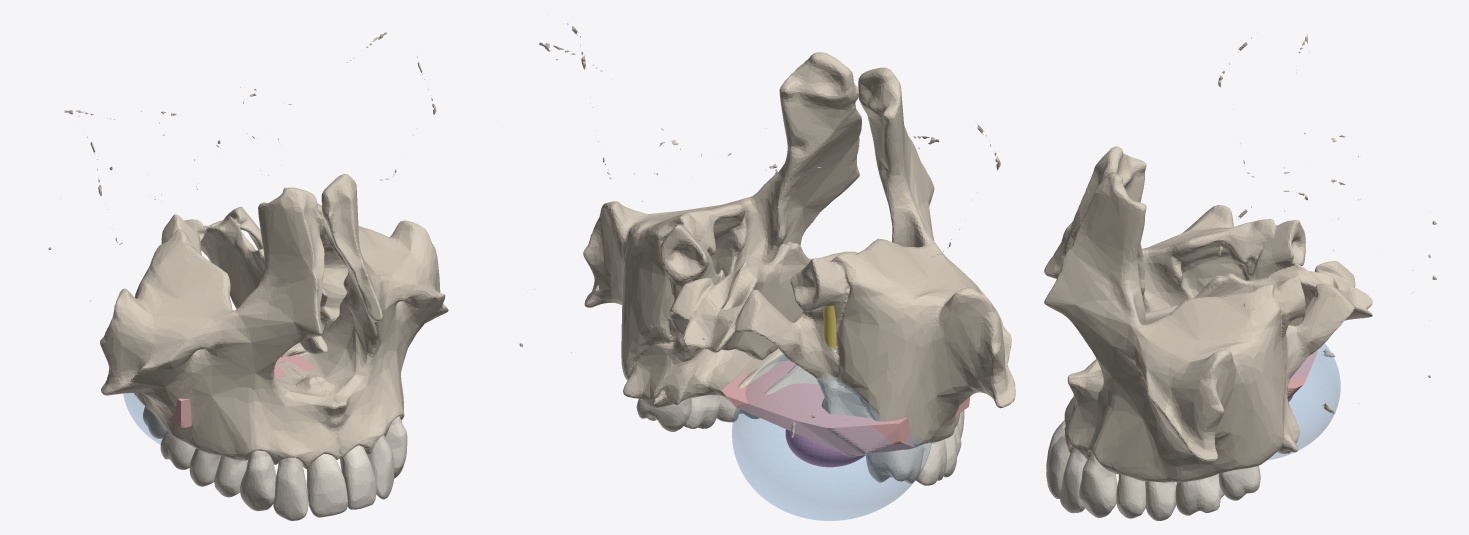
File: acc.glb
3 views of the same model, side by side, from view 1: azimuth 30°, elevation 25°; view 2: azimuth 150°, elevation 25°; view 3: azimuth 270°, elevation 25° (orthographic). The views are drawn at different scales.
Visible parts, largest first — view 1: bone, teeth, specimen_bone, specimen_teeth, margin, free_flap, extracted_teeth; view 2: bone, specimen_bone, margin, free_flap, teeth, specimen_teeth, lesion, sphenoid; view 3: bone, teeth, margin, specimen_bone, free_flap, sphenoid.
Boxes of the visible parts, x1,y1,x2,y2 form: bone: [110, 174, 448, 469]; teeth: [214, 416, 407, 520]; specimen_bone: [100, 244, 316, 446]; specimen_teeth: [143, 406, 195, 469]; margin: [123, 393, 166, 444]; free_flap: [134, 354, 314, 427]; extracted_teeth: [189, 448, 220, 486]; bone: [583, 52, 1003, 425]; specimen_bone: [683, 256, 1015, 457]; margin: [732, 354, 931, 520]; free_flap: [722, 359, 969, 455]; teeth: [636, 395, 964, 455]; specimen_teeth: [866, 439, 946, 485]; lesion: [785, 429, 865, 467]; sphenoid: [519, 23, 1000, 404]; bone: [1044, 146, 1369, 482]; teeth: [1046, 420, 1260, 520]; margin: [1268, 343, 1340, 459]; specimen_bone: [1159, 254, 1372, 399]; free_flap: [1287, 350, 1317, 399]; sphenoid: [1218, 34, 1436, 413].
Size of the model in its own units: 0.108 by 0.092 by 0.0904.
